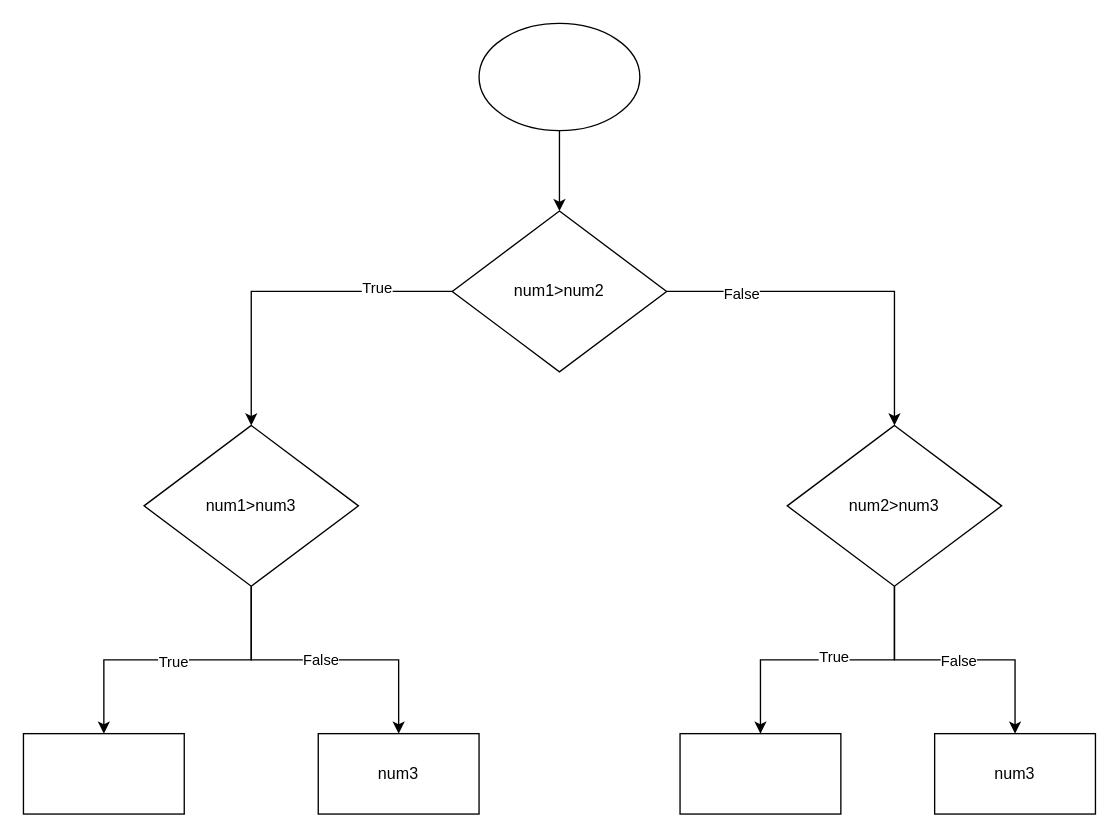
The diagram is 1119 pixels wide and 838 high, and some of its shapes have lost their labels. Here are the shapes that lost their labels. From the top down, the centre of each, then its label:
[559,76]: Start
[103,773]: num1
[760,773]: num2
